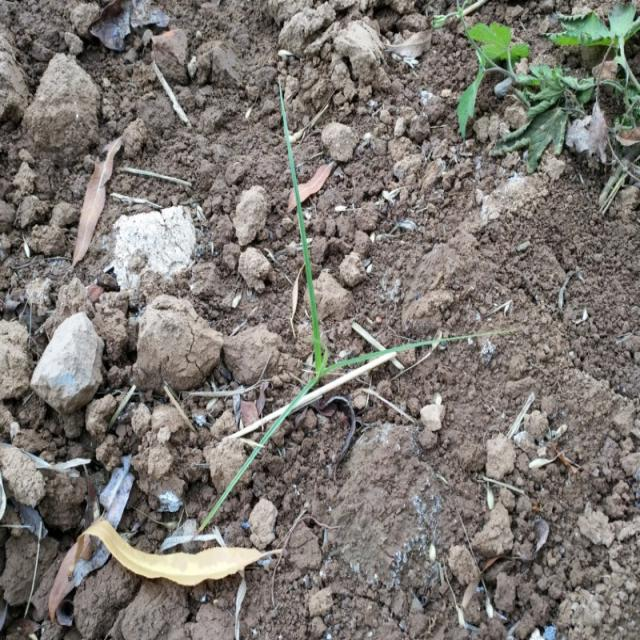sedge: (148, 119, 478, 482)
